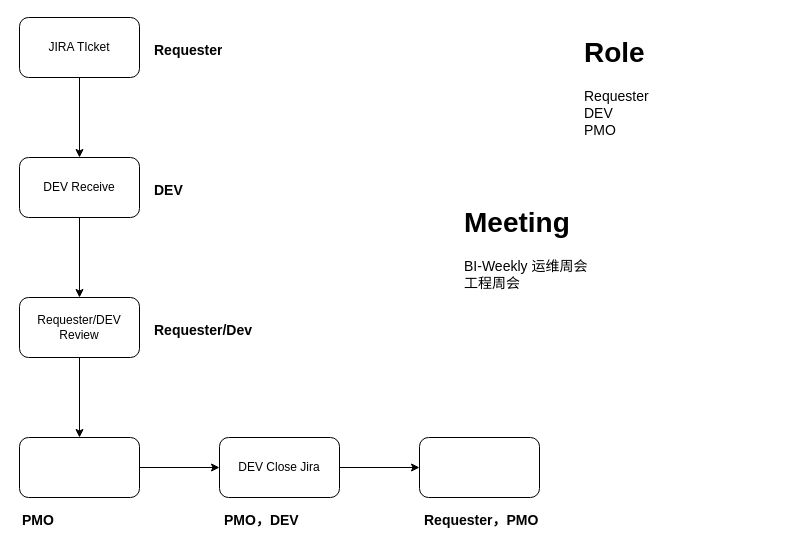
Image size: 787x555. Some labels were removed from this diagram. Here are the shapes that lost their labels. From the top down, the centre of each, then its label:
At (x=79, y=467): "weekly meeting update status".
At (x=479, y=467): "Requester accept".
